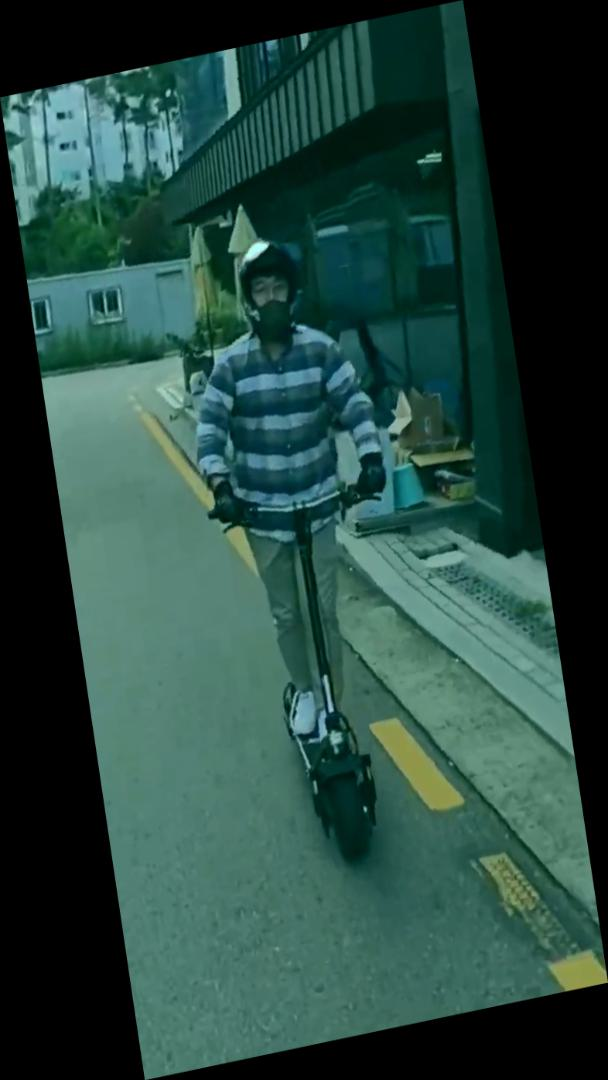helmet: (163, 213, 445, 883)
